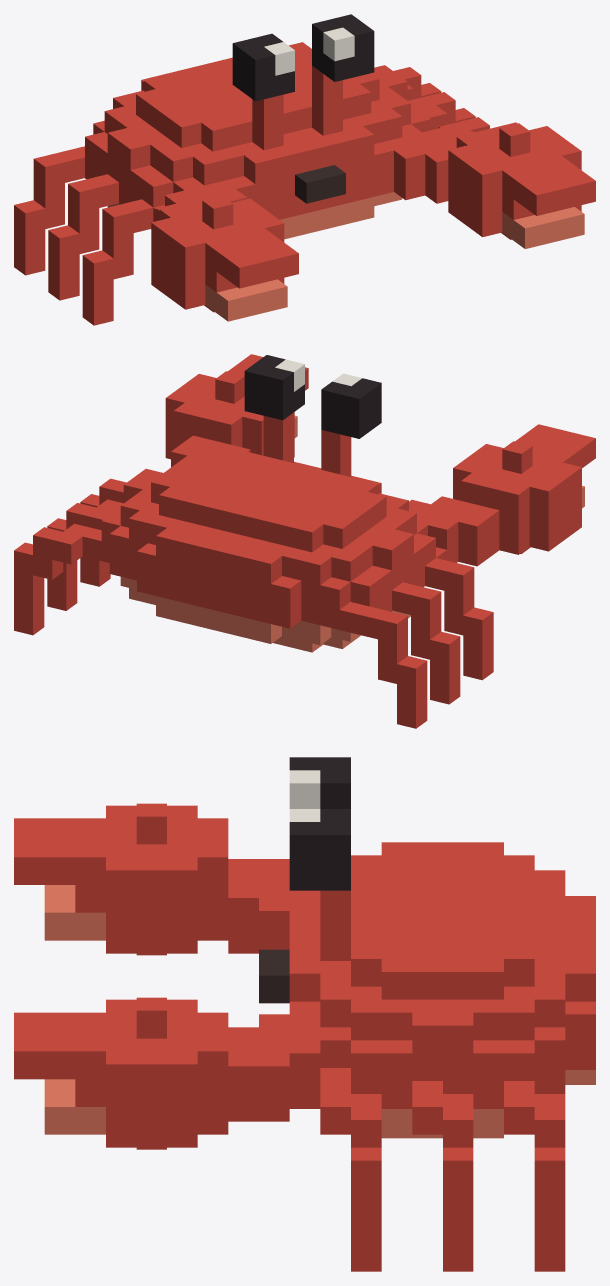
File: crab.glb
The picture shows the model from 3 angles, top to bottom: view 1: azimuth 30°, elevation 25°; view 2: azimuth 150°, elevation 25°; view 3: azimuth 270°, elevation 25°; orthographic projection. The views are drawn at different scales.
Visible parts, largest first — view 1: crab__body, crab__claw_l, crab__claw_r, crab__leg_r, crab__leg_l; view 2: crab__body, crab__claw_r, crab__leg_r, crab__leg_l, crab__claw_l; view 3: crab__body, crab__claw_l, crab__claw_r, crab__leg_l.
Boxes of the visible parts, box(x1,y1,x2,y2) form: crab__body: box(85, 14, 430, 239); crab__claw_l: box(374, 122, 595, 248); crab__claw_r: box(151, 176, 298, 321); crab__leg_r: box(14, 146, 164, 325); crab__leg_l: box(393, 67, 489, 135); crab__body: box(101, 355, 435, 652); crab__claw_r: box(409, 424, 595, 566); crab__leg_r: box(339, 547, 493, 728); crab__leg_l: box(14, 478, 126, 635); crab__claw_l: box(165, 354, 308, 467); crab__body: box(259, 757, 595, 1138); crab__claw_l: box(14, 997, 350, 1149); crab__claw_r: box(14, 803, 320, 955); crab__leg_l: box(320, 1068, 565, 1271).
Size of the model in its own units: 2.1 by 1.2 by 1.9.
Materials: 1 (1 with a texture image).
